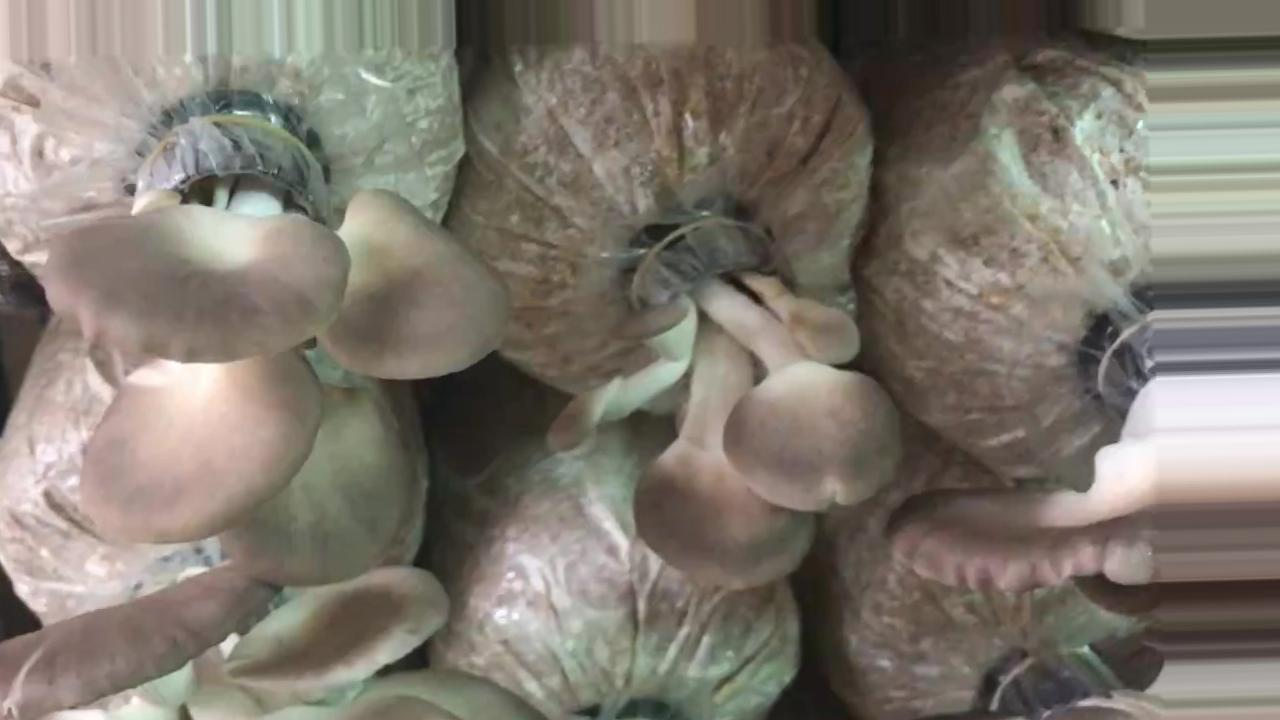nam: (42, 96, 509, 589), (548, 205, 900, 593), (1, 570, 541, 719), (888, 330, 1153, 592)
